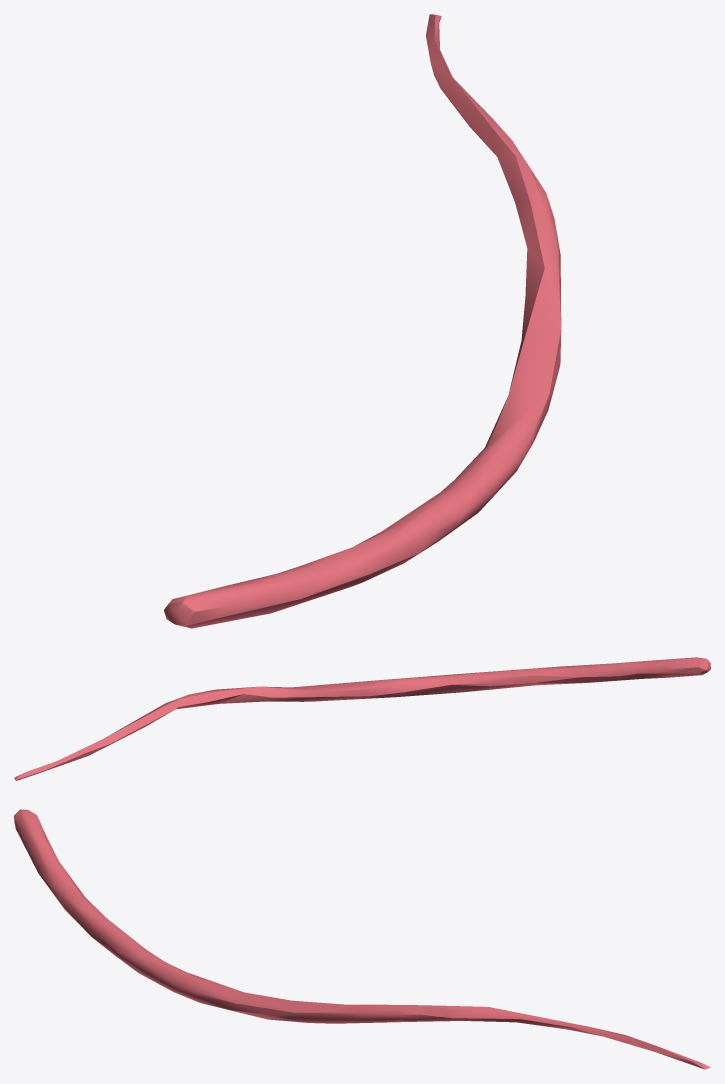
File: fma52452_fj4698.glb
3 renders of one model, top to bottom at view 1: azimuth 30°, elevation 25°; view 2: azimuth 150°, elevation 25°; view 3: azimuth 270°, elevation 25°, orthographic. The views are drawn at different scales.
Parts seen in each view (by area): view 1: FMA52452_FJ4698; view 2: FMA52452_FJ4698; view 3: FMA52452_FJ4698.
Part boxes in pixels (left/top/right/bottom): FMA52452_FJ4698: left=164, top=14, right=561, bottom=628; FMA52452_FJ4698: left=14, top=657, right=710, bottom=780; FMA52452_FJ4698: left=14, top=809, right=710, bottom=1069.
Size of the model in its own units: 0.0259 by 0.00298 by 0.0309.
